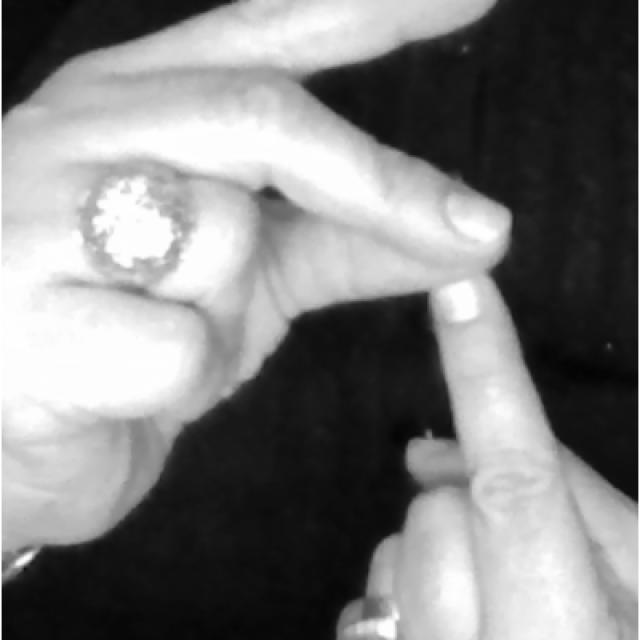I-: (5, 0, 636, 639)
